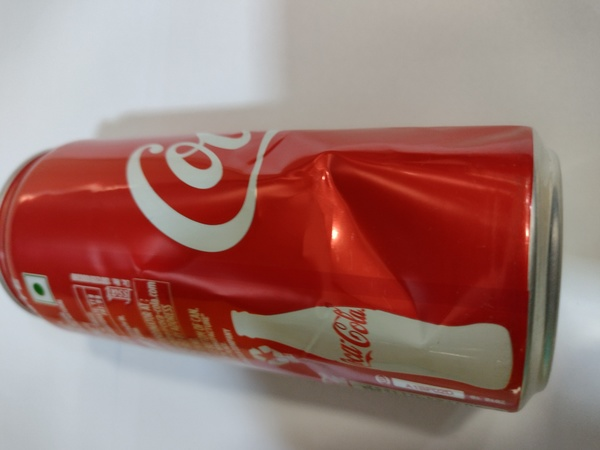can: (3, 120, 585, 422)
